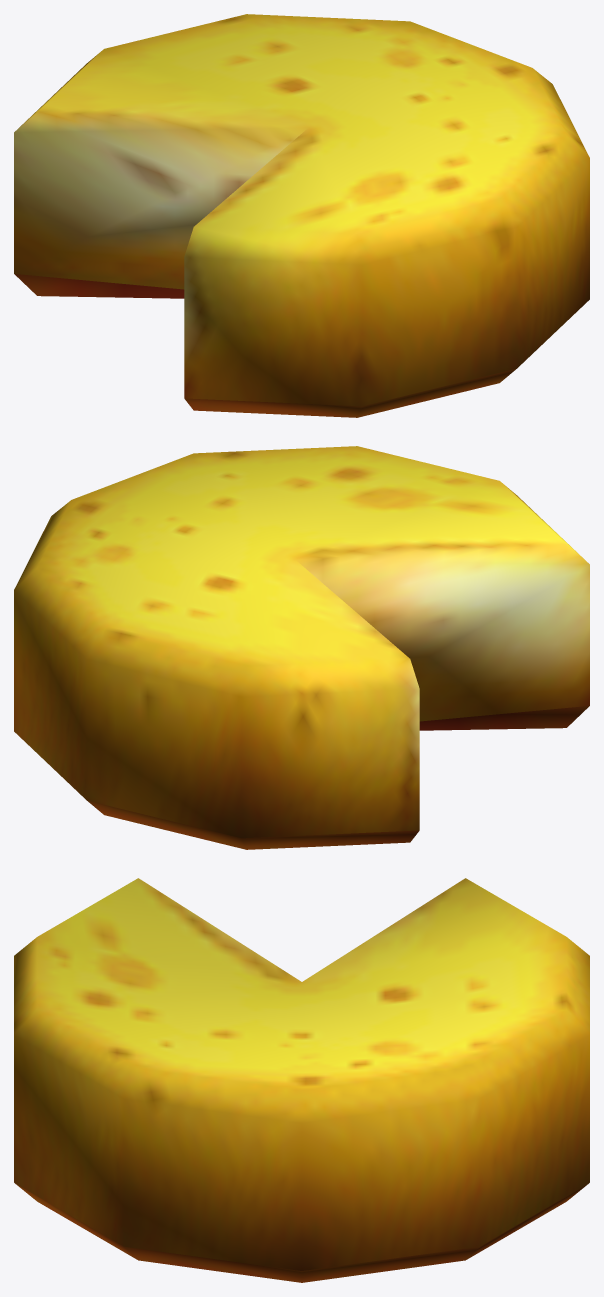
The model's file is Cheese.fbx.
3 renders of one model, top to bottom at view 1: azimuth 30°, elevation 25°; view 2: azimuth 150°, elevation 25°; view 3: azimuth 270°, elevation 25°, orthographic. The views are drawn at different scales.
Parts seen in each view (by area): view 1: cheese; view 2: cheese; view 3: cheese.
Part boxes in pixels (x1,y1,x2,y2): cheese: (14, 14, 589, 417); cheese: (14, 446, 589, 849); cheese: (14, 878, 589, 1282).
Size of the model in its own units: 1.81 by 0.7 by 1.9.
